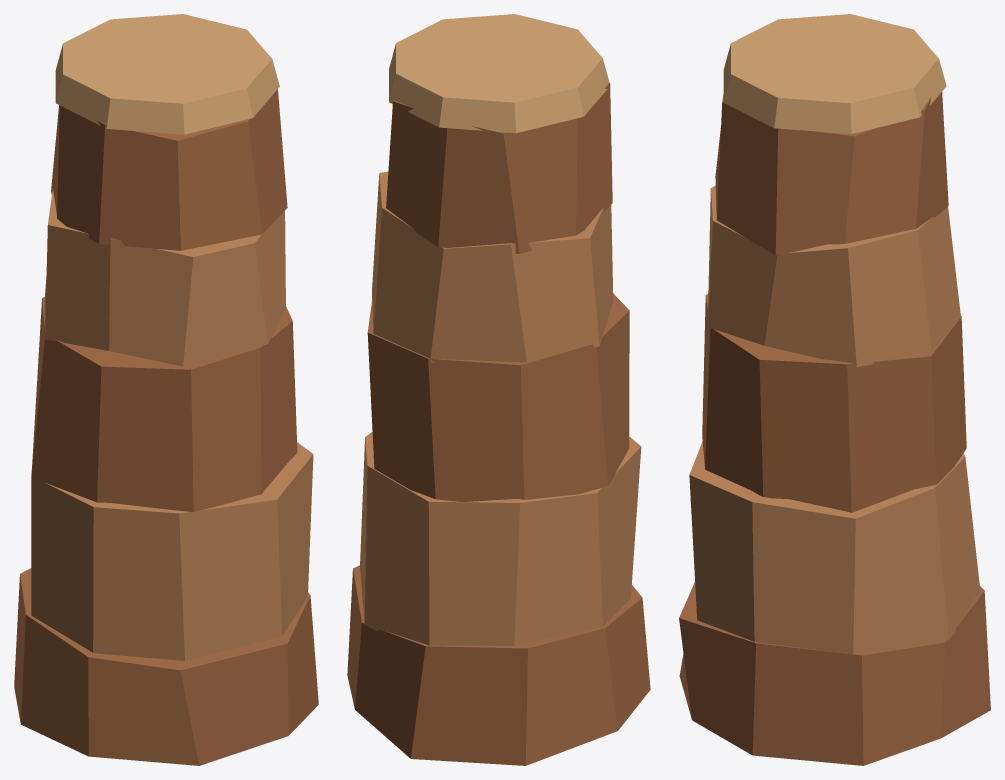
File: Canyon_Pillar1.fbx
3 views of the same model, side by side, from view 1: azimuth 30°, elevation 25°; view 2: azimuth 150°, elevation 25°; view 3: azimuth 270°, elevation 25° (orthographic).
Parts seen in each view (by area): view 1: Canyon_Pillar1; view 2: Canyon_Pillar1; view 3: Canyon_Pillar1.
Part boxes in pixels (x1,y1,x2,y2): Canyon_Pillar1: [14, 14, 318, 765]; Canyon_Pillar1: [347, 14, 650, 765]; Canyon_Pillar1: [679, 14, 990, 765].
Size of the model in its own units: 2.53 by 5.87 by 2.56.
